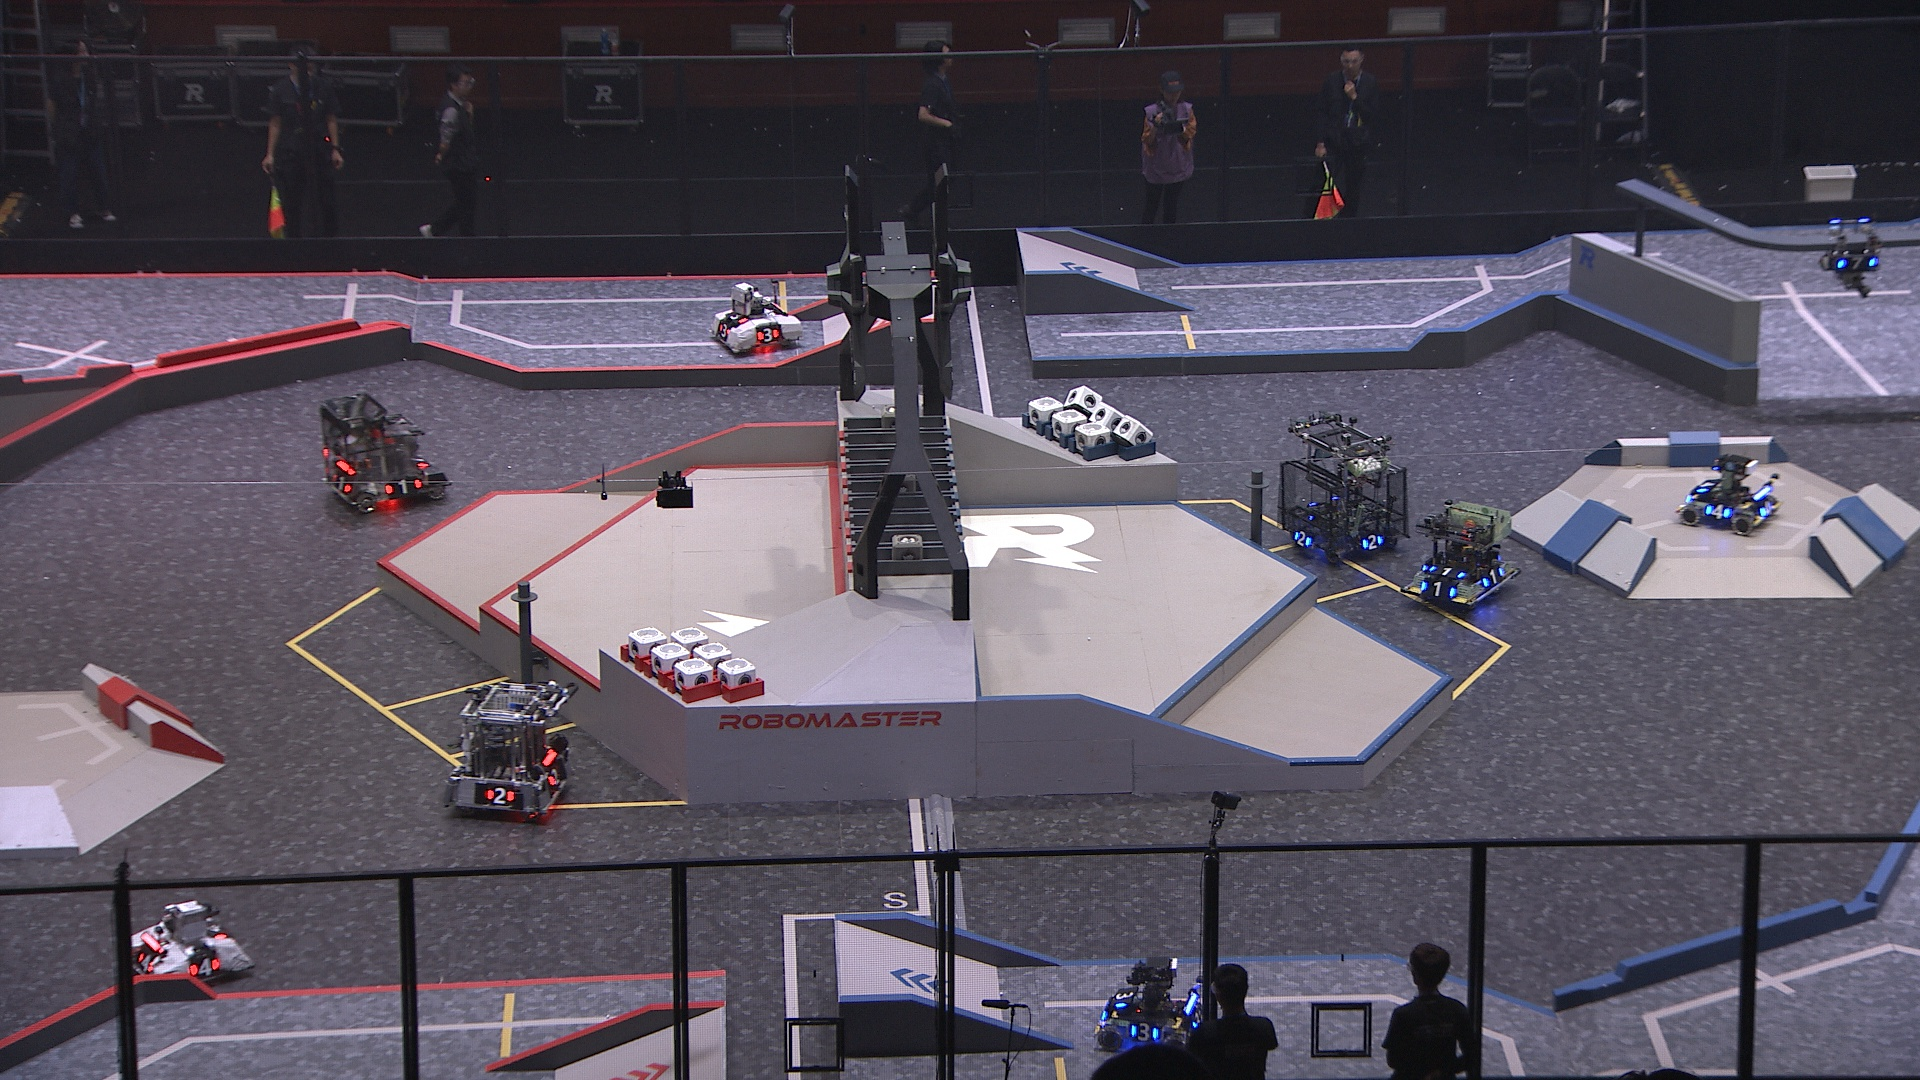armor: (189, 957, 223, 978), (1129, 1021, 1159, 1044), (1418, 582, 1458, 599), (1840, 255, 1878, 272), (385, 477, 422, 495), (1429, 564, 1466, 582), (328, 473, 353, 498), (1705, 502, 1735, 522), (487, 787, 516, 806), (136, 949, 158, 973), (1481, 564, 1505, 585), (1292, 527, 1313, 550), (204, 924, 229, 943), (1695, 479, 1721, 496), (756, 327, 782, 344), (1114, 986, 1135, 1007), (1361, 534, 1386, 551), (546, 766, 564, 789), (1759, 498, 1776, 520), (409, 454, 430, 469), (713, 322, 735, 338), (727, 311, 750, 324)
car: (1275, 411, 1408, 564), (442, 675, 578, 823), (319, 392, 454, 517), (1400, 500, 1519, 611), (125, 901, 256, 993), (1093, 955, 1207, 1058), (1676, 455, 1782, 537), (712, 281, 803, 353)
watcher: (1816, 216, 1883, 299)
